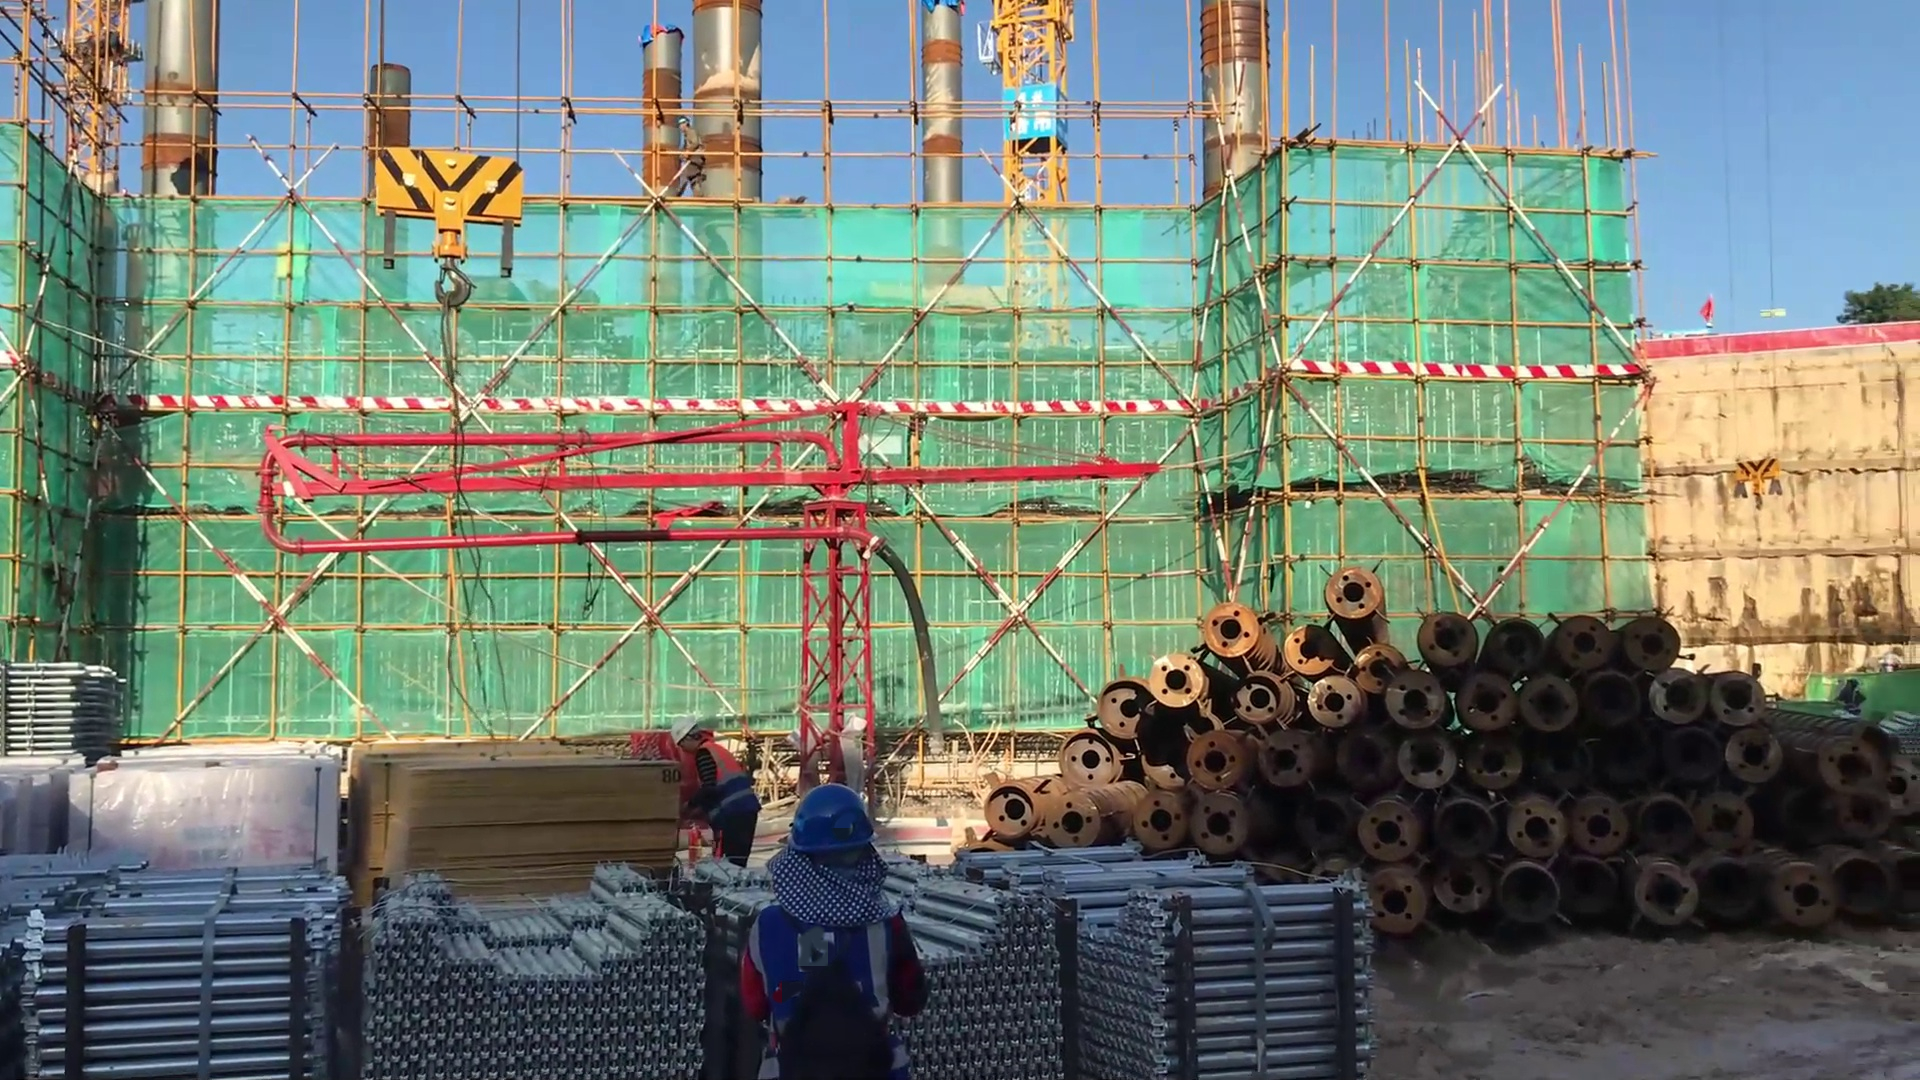board: (358, 738, 684, 908)
fence: (1631, 310, 1920, 369)
helmet: (775, 781, 887, 855), (659, 711, 705, 745), (675, 112, 694, 129)
hook: (359, 128, 536, 330)
person: (736, 778, 933, 1080), (670, 702, 771, 883), (669, 107, 715, 201)
scaffold: (919, 845, 1386, 1067), (350, 869, 713, 1080), (1, 864, 355, 1069), (1, 656, 126, 765)
slogan: (1013, 84, 1068, 155)
vest: (748, 901, 914, 1080), (689, 743, 761, 827)
